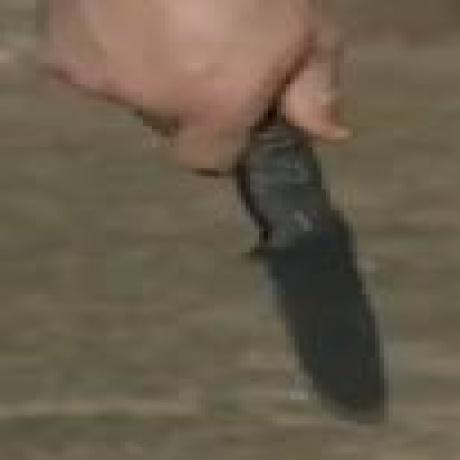1: (27, 0, 353, 176)
weapon: (246, 136, 411, 414)
